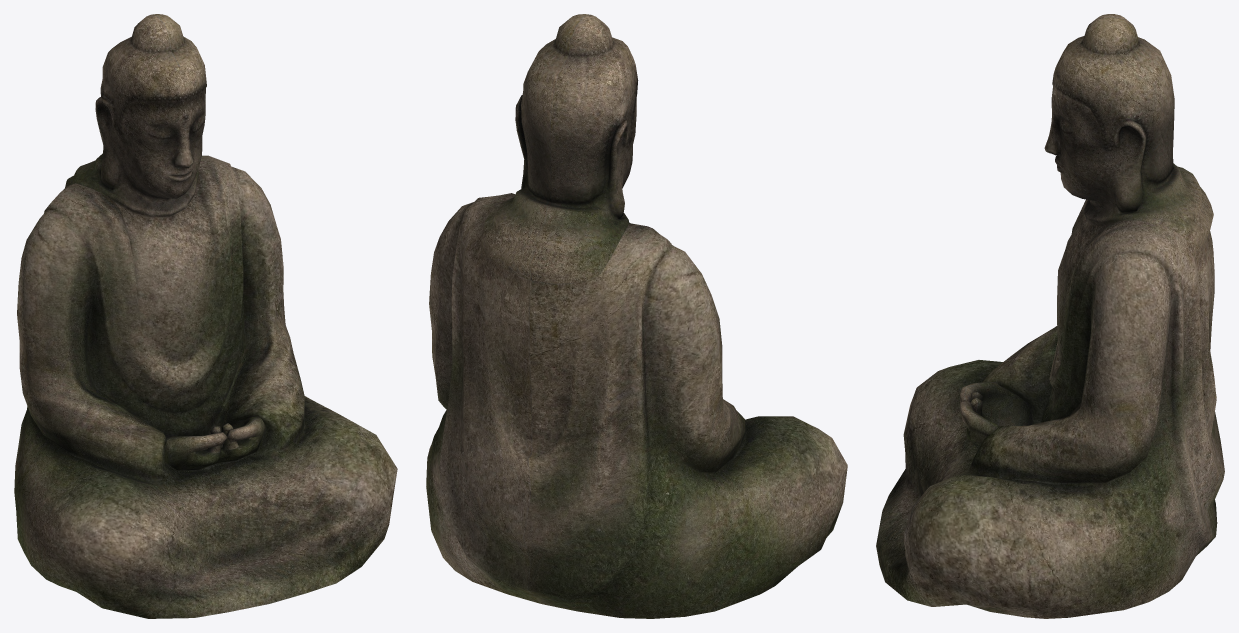
Rendered from buddha.obj.
The picture shows the model from 3 angles, left to right: view 1: azimuth 30°, elevation 25°; view 2: azimuth 150°, elevation 25°; view 3: azimuth 270°, elevation 25°; orthographic projection. The views are drawn at different scales.
Parts seen in each view (by area): view 1: Buddha_Statue; view 2: Buddha_Statue; view 3: Buddha_Statue.
Part boxes in pixels (left/top/right/bottom): Buddha_Statue: left=14, top=14, right=397, bottom=618; Buddha_Statue: left=426, top=14, right=847, bottom=618; Buddha_Statue: left=876, top=14, right=1224, bottom=618.
Size of the model in its own units: 0.8308 by 1.2 by 0.715.
Materials: 1 (1 with a texture image).
